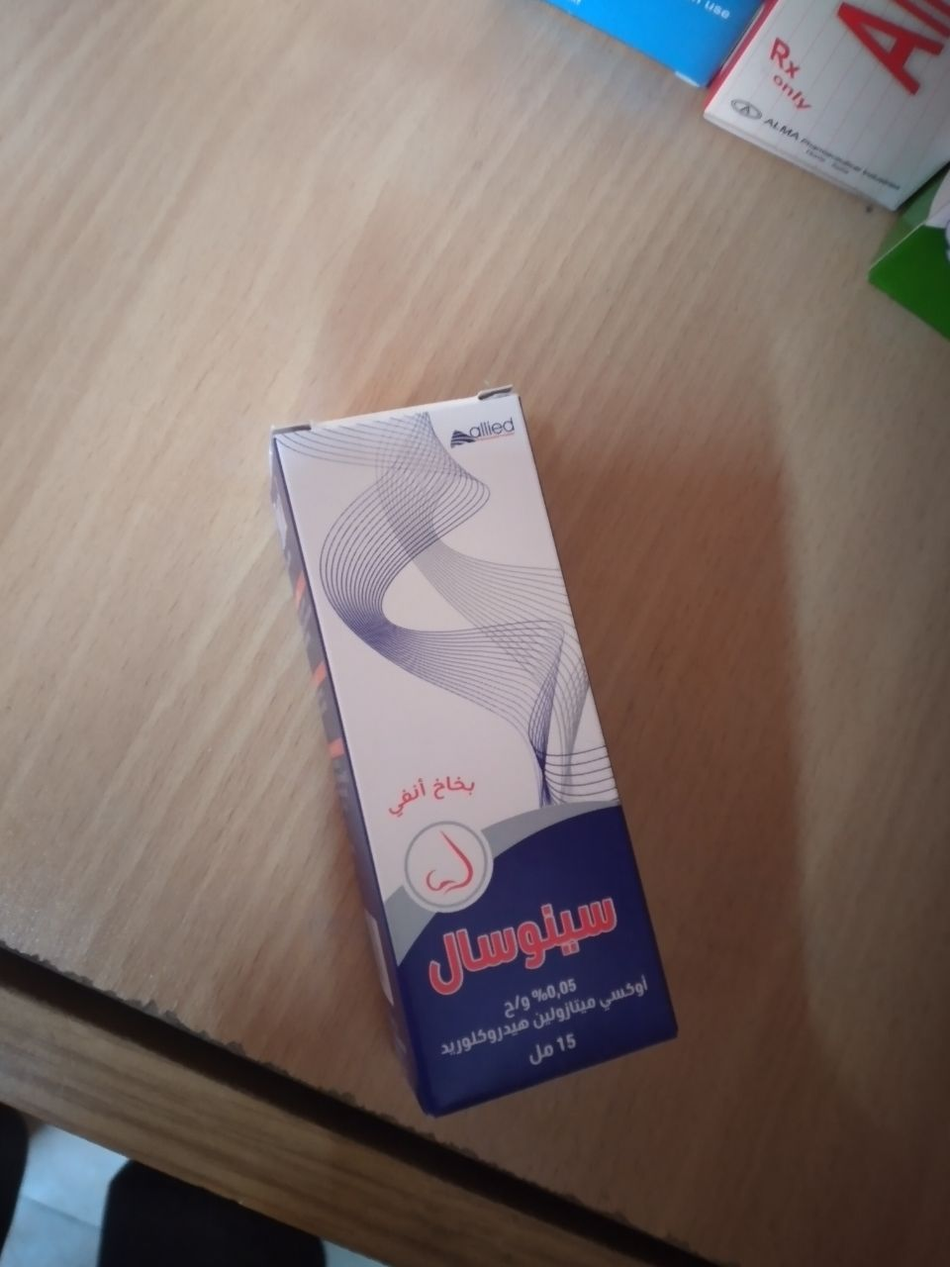Medicine: (261, 370, 699, 1135)
